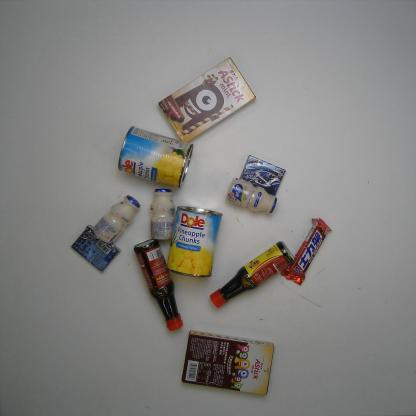Canned Food: (118, 125, 194, 189), (168, 204, 224, 278)
Chocolate: (281, 216, 331, 288)
Dessert: (158, 56, 257, 144), (181, 330, 275, 396)
Gum: (71, 224, 121, 272), (238, 155, 286, 196)
Milk: (92, 194, 141, 245), (224, 176, 278, 215), (149, 188, 178, 241)
Seasoner: (210, 241, 296, 310), (133, 237, 184, 332)
